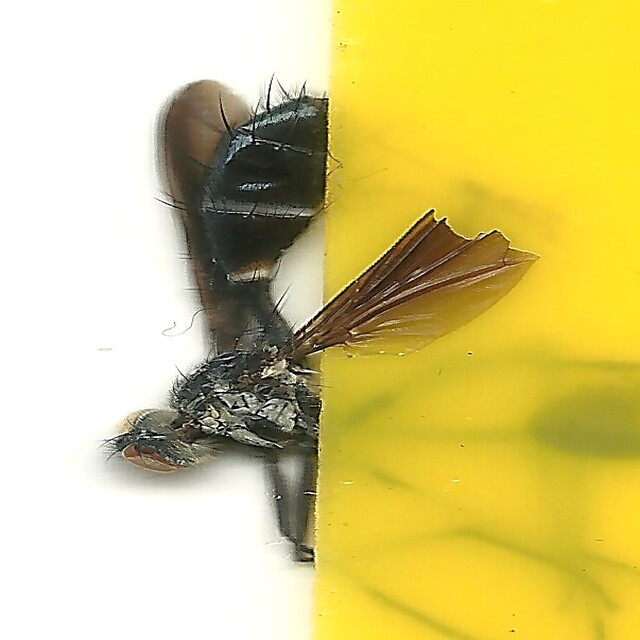Brachycera: (106, 72, 534, 568)
